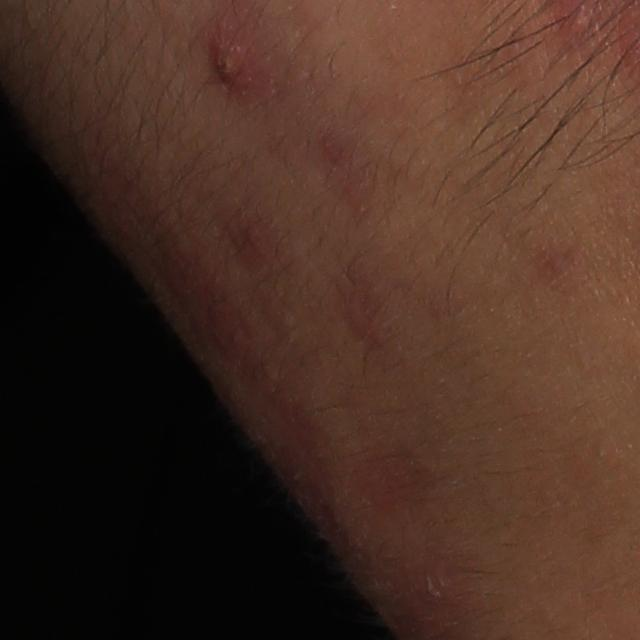papule: (201, 27, 254, 92)
